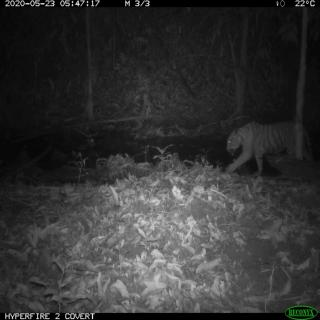Tiger: (223, 111, 319, 182)
